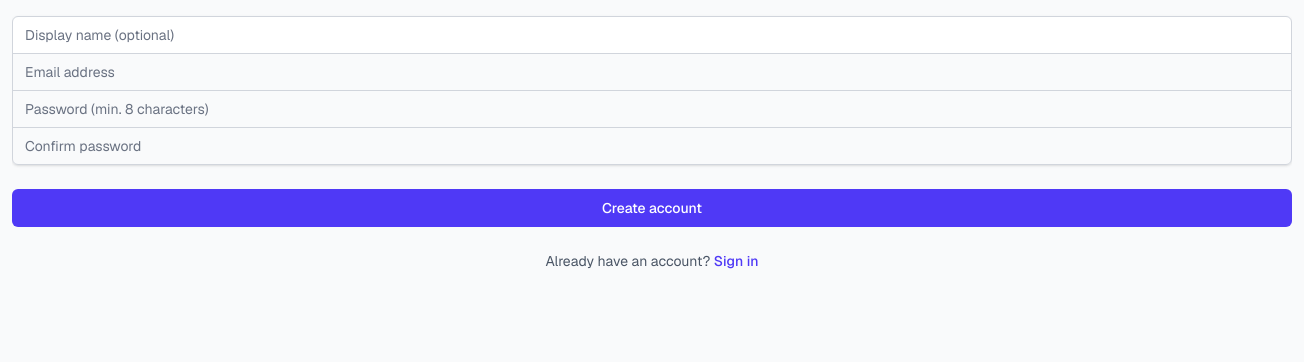
Test: RegisterForm › shows error message on registration failure
Type "test@example.com" into the field with placeholder "Email address" at (652, 72), box [12,53,1292,91]
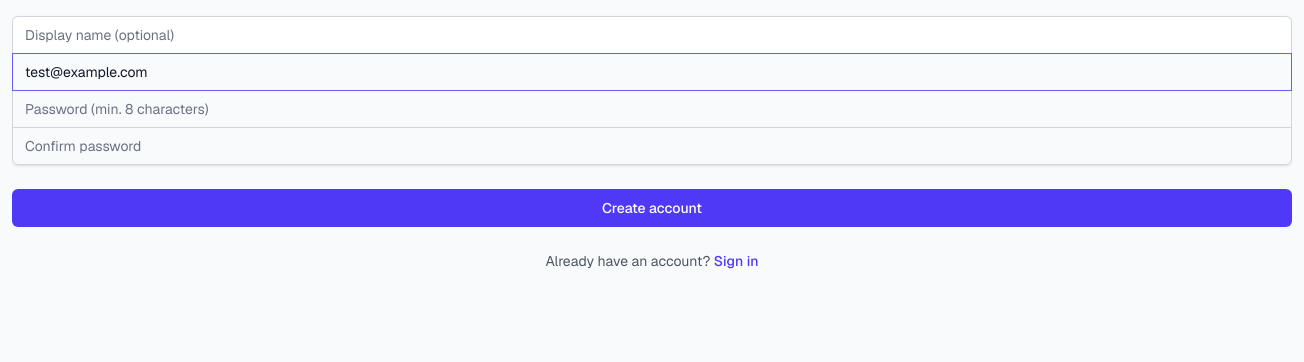
Type "password123" into the password field with placeholder "Password (min. 8 characters)" at (652, 109), box [12,90,1292,128]
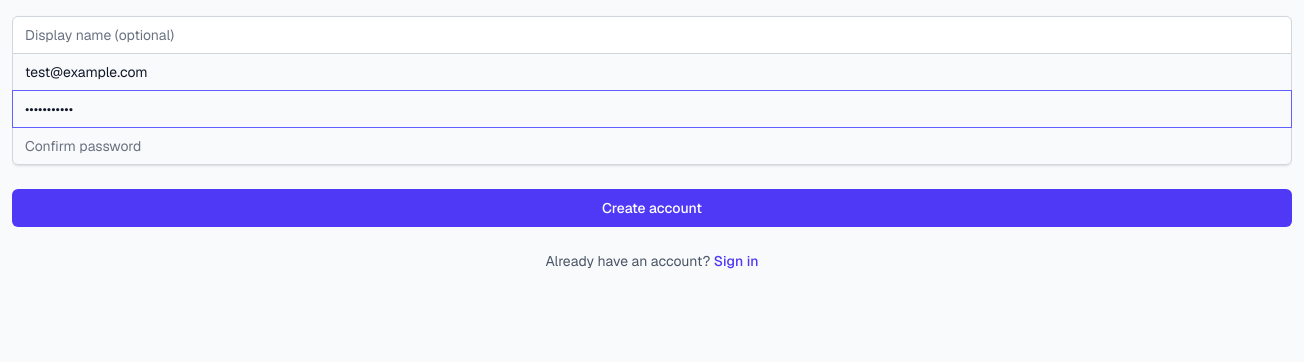
Type "password123" into the password field with placeholder "Confirm password" at (652, 146), box [12,127,1292,165]
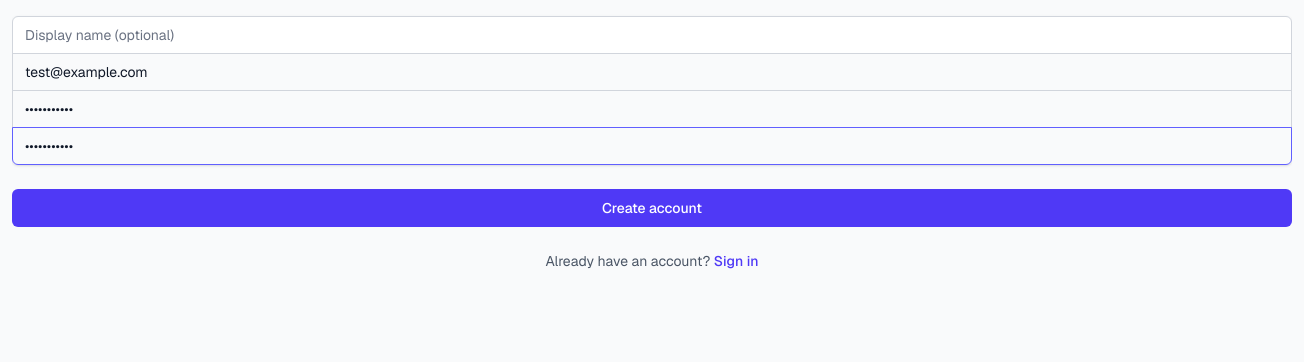
Click the button "Create account" at (652, 208), box [12,189,1292,227]
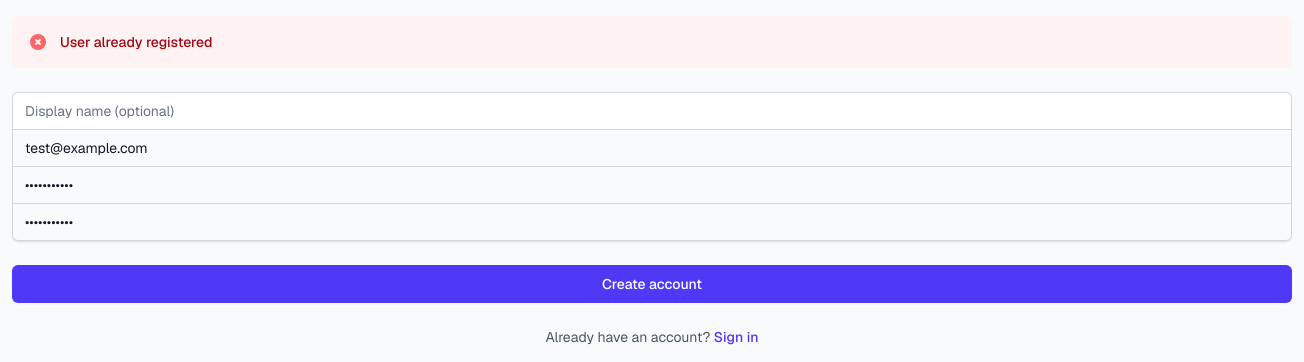
Check: the text "User already registered" is shown, box [60,32,212,52]
